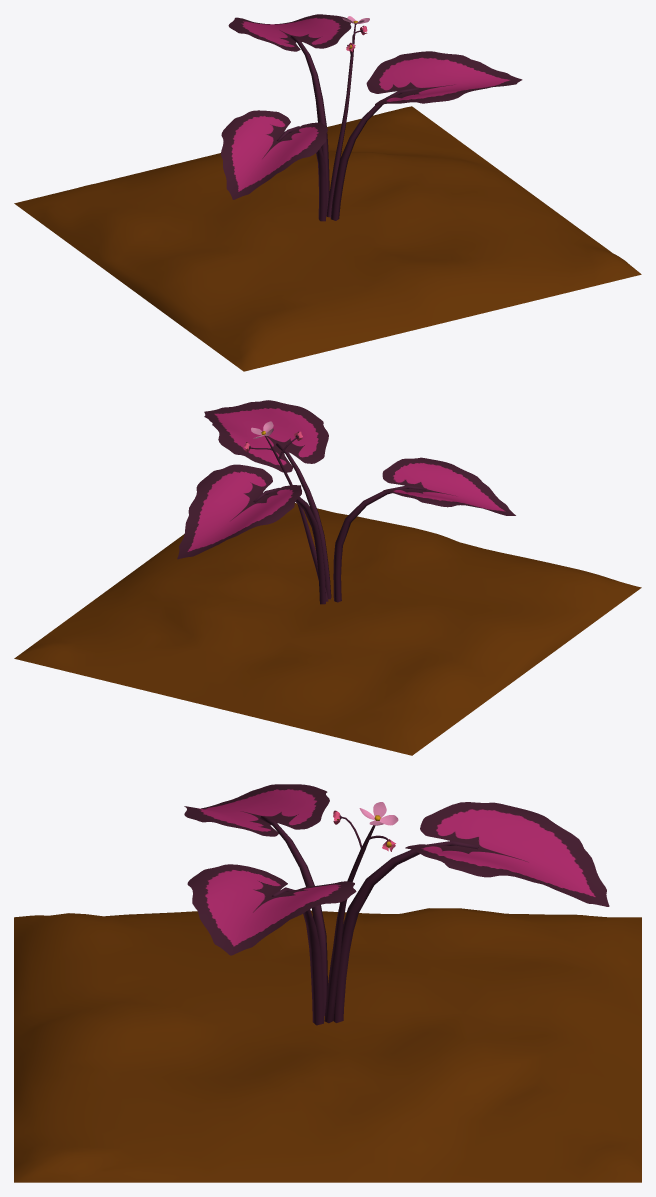
The model's file is begonia-rex-p1-bloom.glb.
The picture shows the model from 3 angles, top to bottom: view 1: azimuth 30°, elevation 25°; view 2: azimuth 150°, elevation 25°; view 3: azimuth 270°, elevation 25°; orthographic projection. The views are drawn at different scales.
Visible parts, largest first — view 1: 1_nft_bloom; view 2: 1_nft_bloom; view 3: 1_nft_bloom.
Part boxes in pixels (<box>): 1_nft_bloom: <box>14,14,641,371</box>; 1_nft_bloom: <box>14,400,641,755</box>; 1_nft_bloom: <box>14,784,641,1182</box>.
Size of the model in its own units: 0.7 by 0.3345 by 0.7.
Materials: 7 (1 with a texture image).
